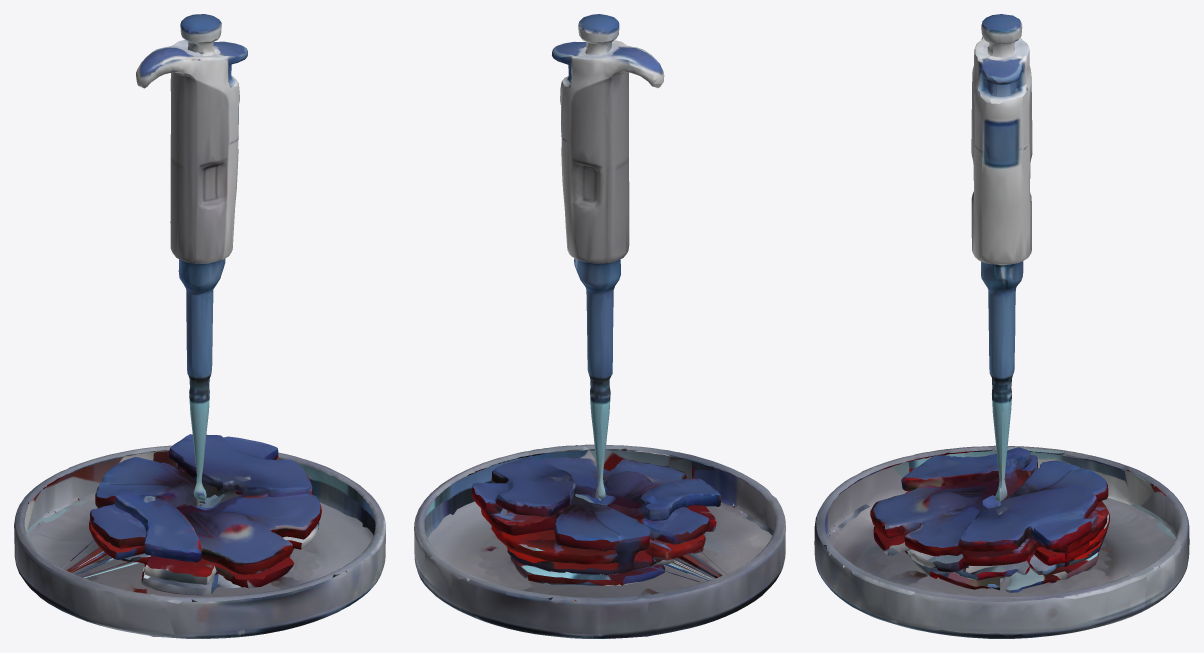
The model's file is pipetaCTR.glb.
The picture shows the model from 3 angles, left to right: view 1: azimuth 30°, elevation 25°; view 2: azimuth 150°, elevation 25°; view 3: azimuth 270°, elevation 25°; orthographic projection.
Parts seen in each view (by area): view 1: tmpbvrddj0l.ply; view 2: tmpbvrddj0l.ply; view 3: tmpbvrddj0l.ply.
Boxes of the visible parts, left/top/right/bottom form: tmpbvrddj0l.ply: left=14, top=14, right=385, bottom=638; tmpbvrddj0l.ply: left=414, top=14, right=785, bottom=638; tmpbvrddj0l.ply: left=814, top=14, right=1189, bottom=638.
Bounding box in the file's own units: 1.2 × 1.97 × 1.22.
1 material, 1 textured.
